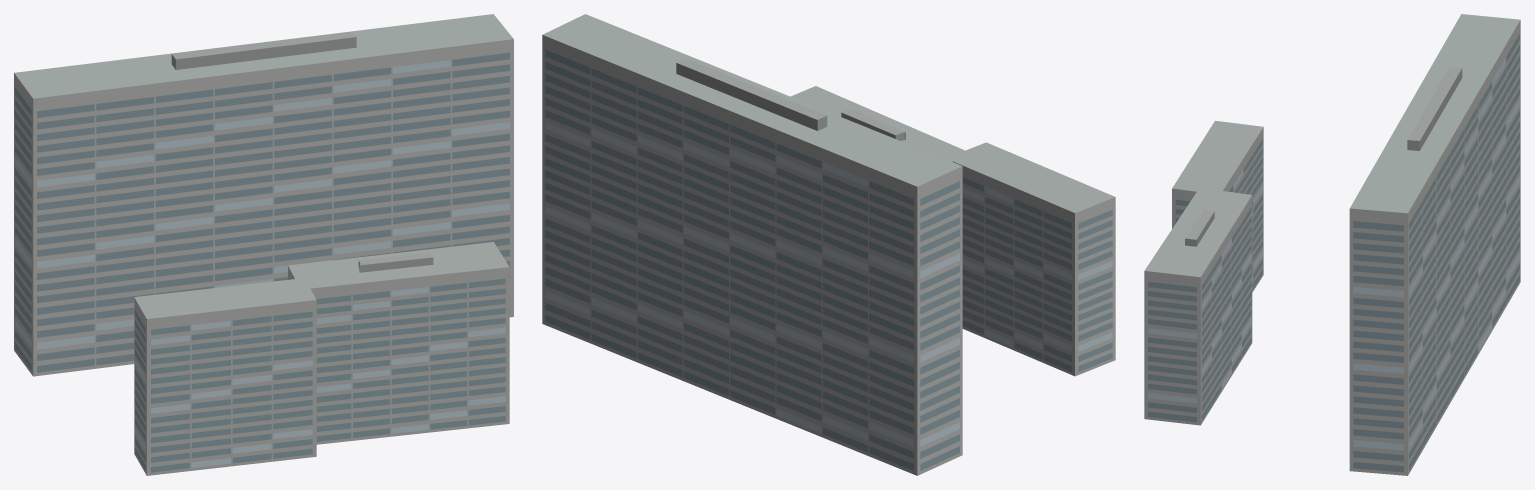
The model's file is apt-a15209202.glb.
3 renders of one model, left to right at view 1: azimuth 30°, elevation 25°; view 2: azimuth 150°, elevation 25°; view 3: azimuth 270°, elevation 25°, orthographic. The views are drawn at different scales.
Visible parts, largest first — view 1: apt-a15209202; view 2: apt-a15209202; view 3: apt-a15209202.
Part boxes in pixels (x1,y1,x2,y2): apt-a15209202: [14, 14, 513, 475]; apt-a15209202: [542, 14, 1115, 475]; apt-a15209202: [1144, 14, 1520, 475].
Bounding box in the file's own units: 106 × 65 × 81.25.
